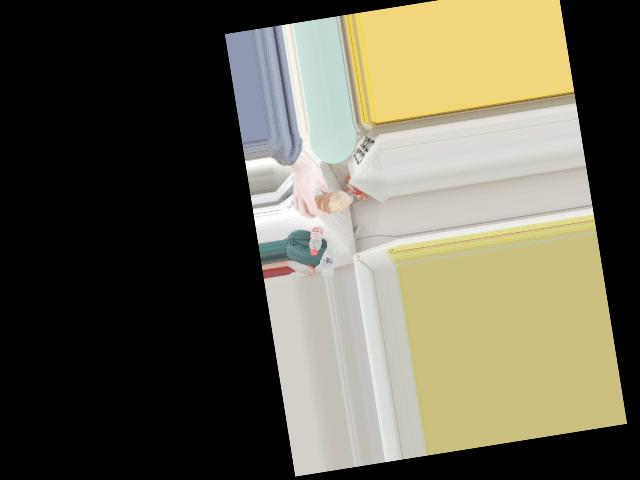sweet_potato: (312, 190, 346, 216)
